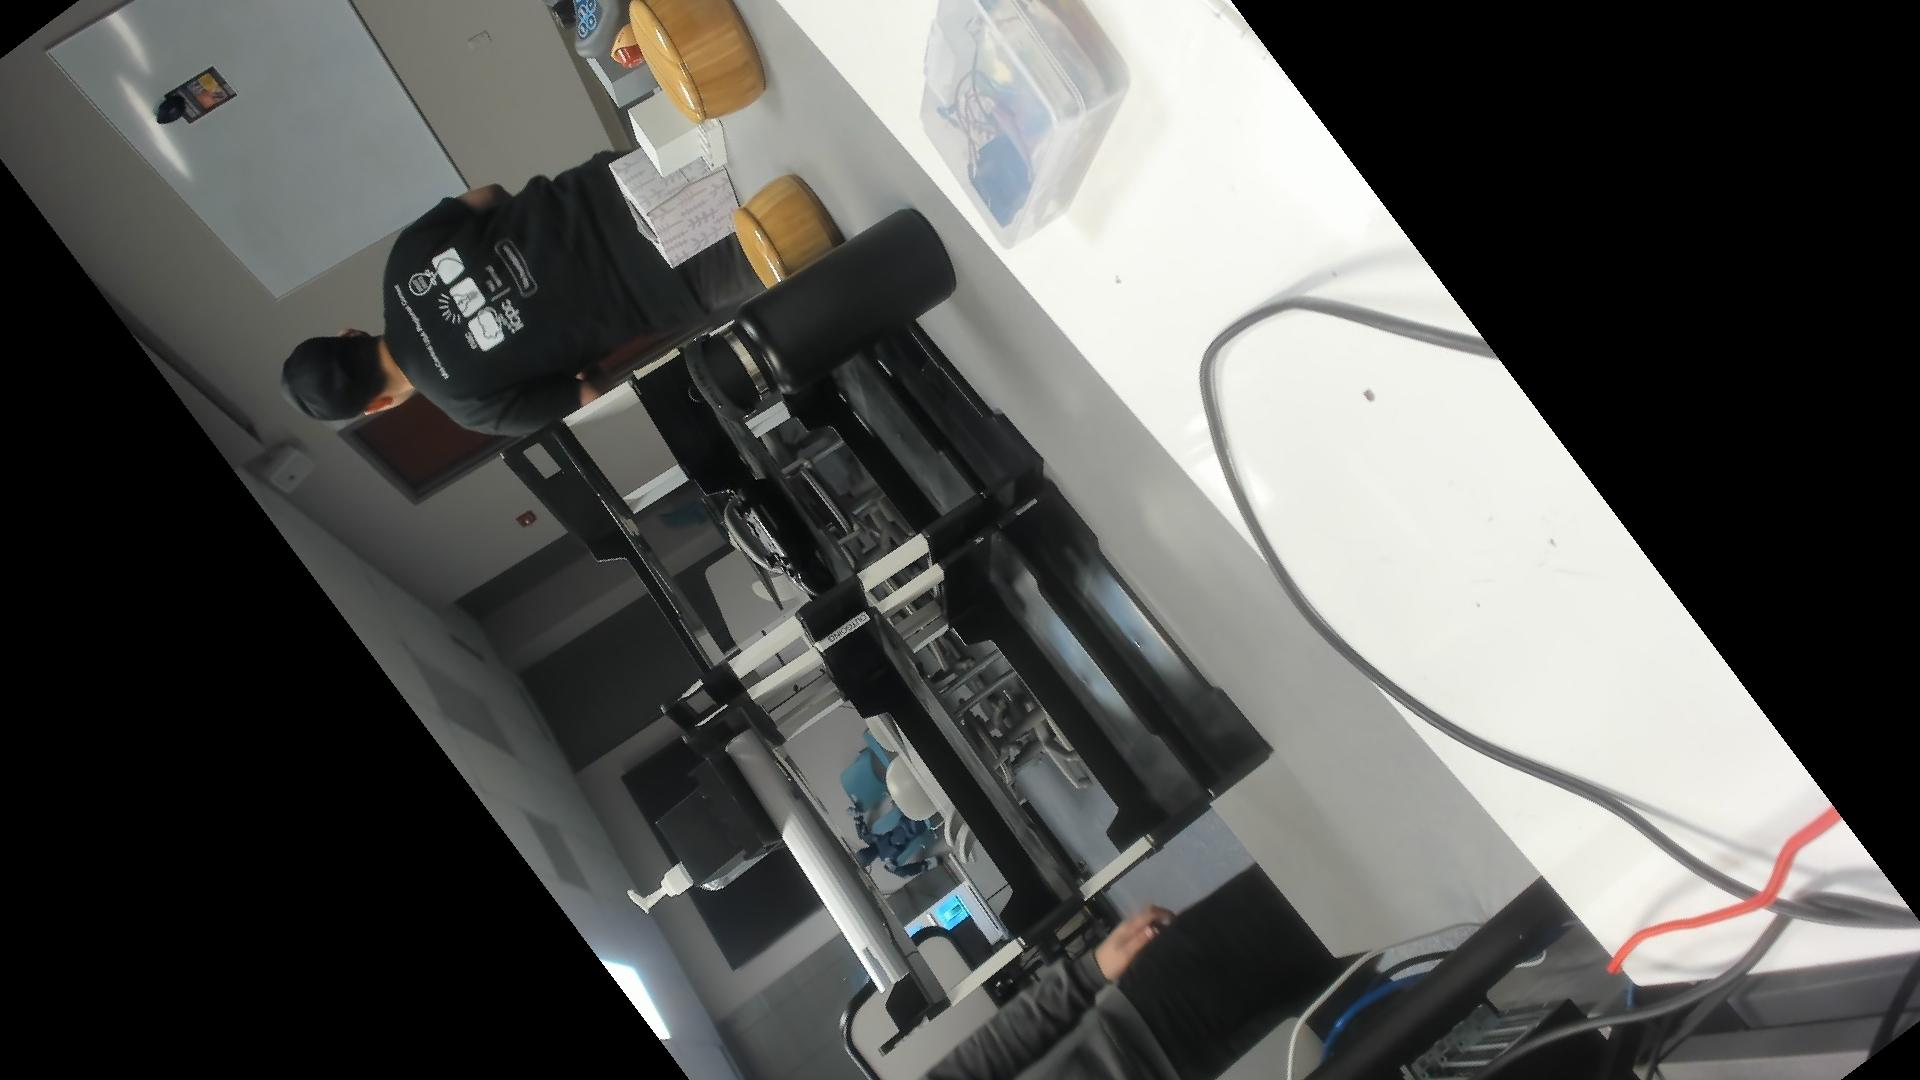black pallet: (646, 740, 796, 890)
grey pallet: (587, 55, 654, 111)
white pallet: (625, 91, 740, 179)
